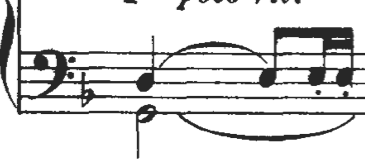bass_clef: (24, 42, 80, 105)
flat: (75, 70, 99, 111)
